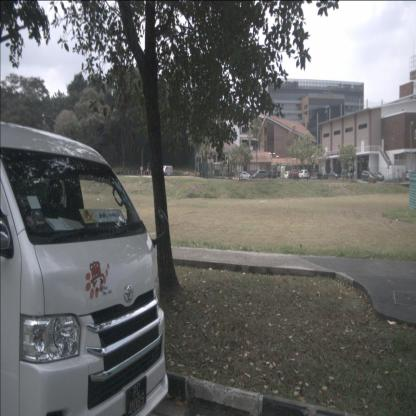human-pedestrian-adult: (146, 167, 149, 176)
vehicle-car: (0, 124, 169, 416), (360, 170, 376, 183), (252, 170, 266, 180), (288, 169, 299, 180), (298, 170, 309, 180), (317, 170, 328, 180), (372, 172, 384, 181), (327, 172, 340, 180), (162, 166, 172, 176), (406, 170, 415, 181), (239, 172, 251, 180), (237, 170, 247, 178), (268, 171, 277, 179), (283, 171, 290, 179)
vehicle-truck: (342, 170, 353, 179)
